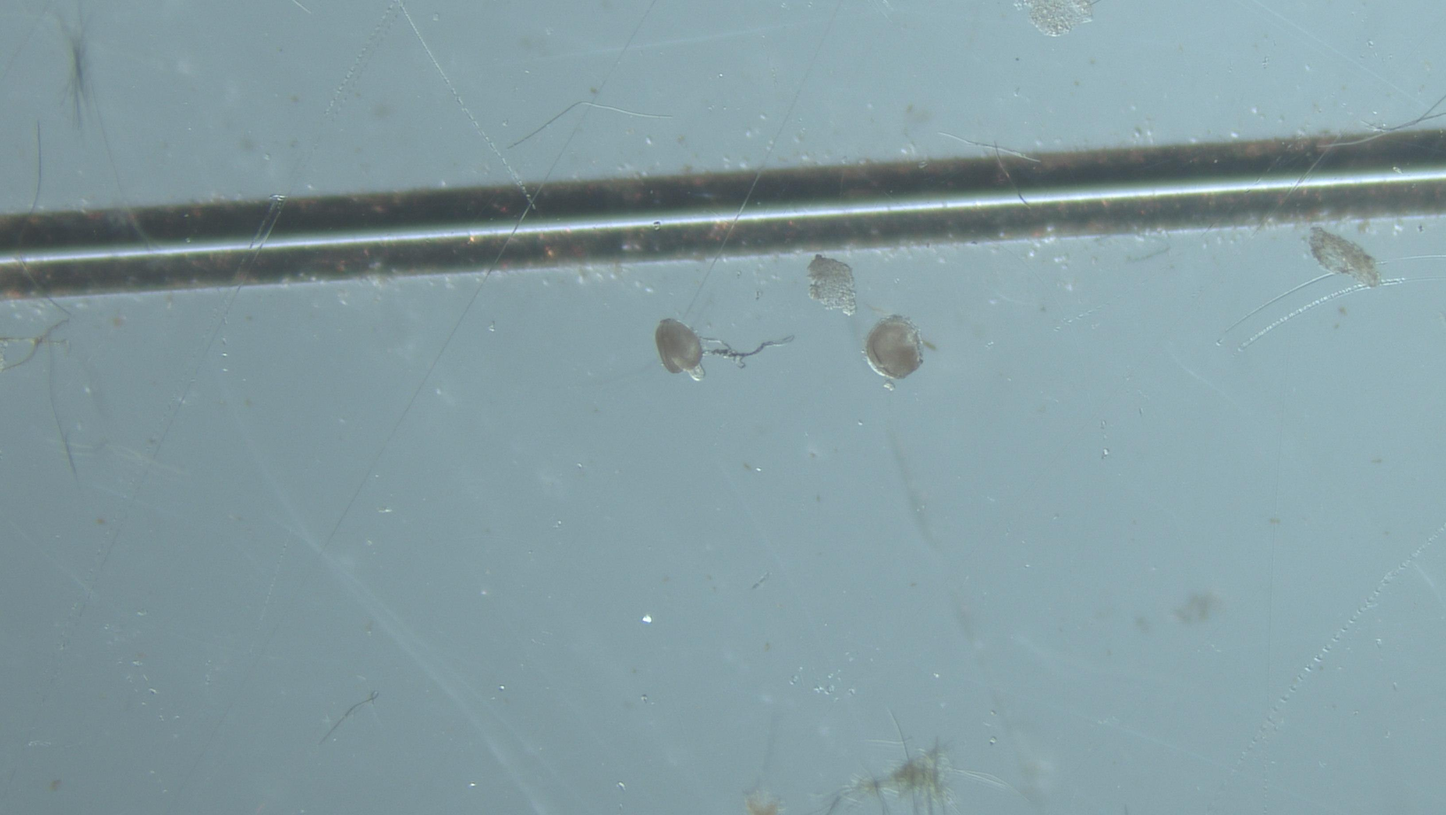live: (864, 315, 927, 391), (655, 318, 704, 381)
